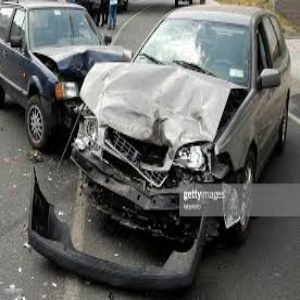bonnet: (87, 60, 230, 142)
bumper: (55, 156, 178, 243)
